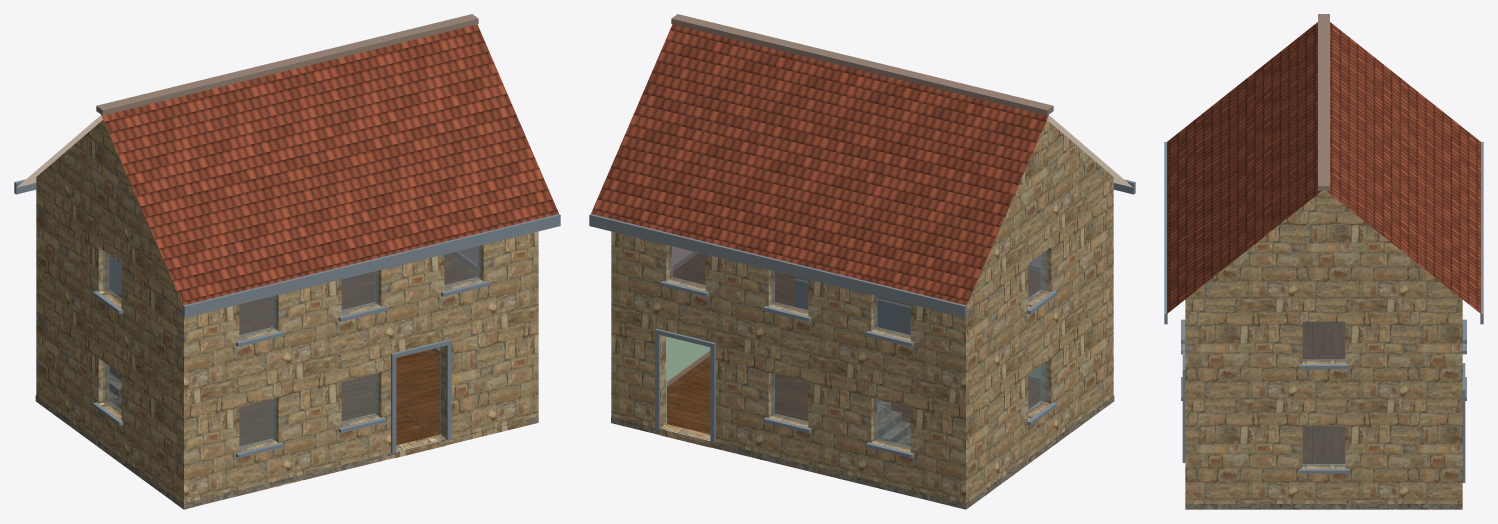
Rendered from cottage-stone.glass-v1.lod0.glb.
3 views of the same model, side by side, from view 1: azimuth 30°, elevation 25°; view 2: azimuth 150°, elevation 25°; view 3: azimuth 270°, elevation 25° (orthographic). The views are drawn at different scales.
Parts seen in each view (by area): view 1: cottage-stone; view 2: cottage-stone; view 3: cottage-stone.
Boxes of the visible parts, <box> form: cottage-stone: <box>14,14,560,509</box>; cottage-stone: <box>589,14,1135,509</box>; cottage-stone: <box>1164,14,1483,509</box>.
Size of the model in its own units: 9.54 by 8.5 by 7.48.
6 materials, 4 textured.
